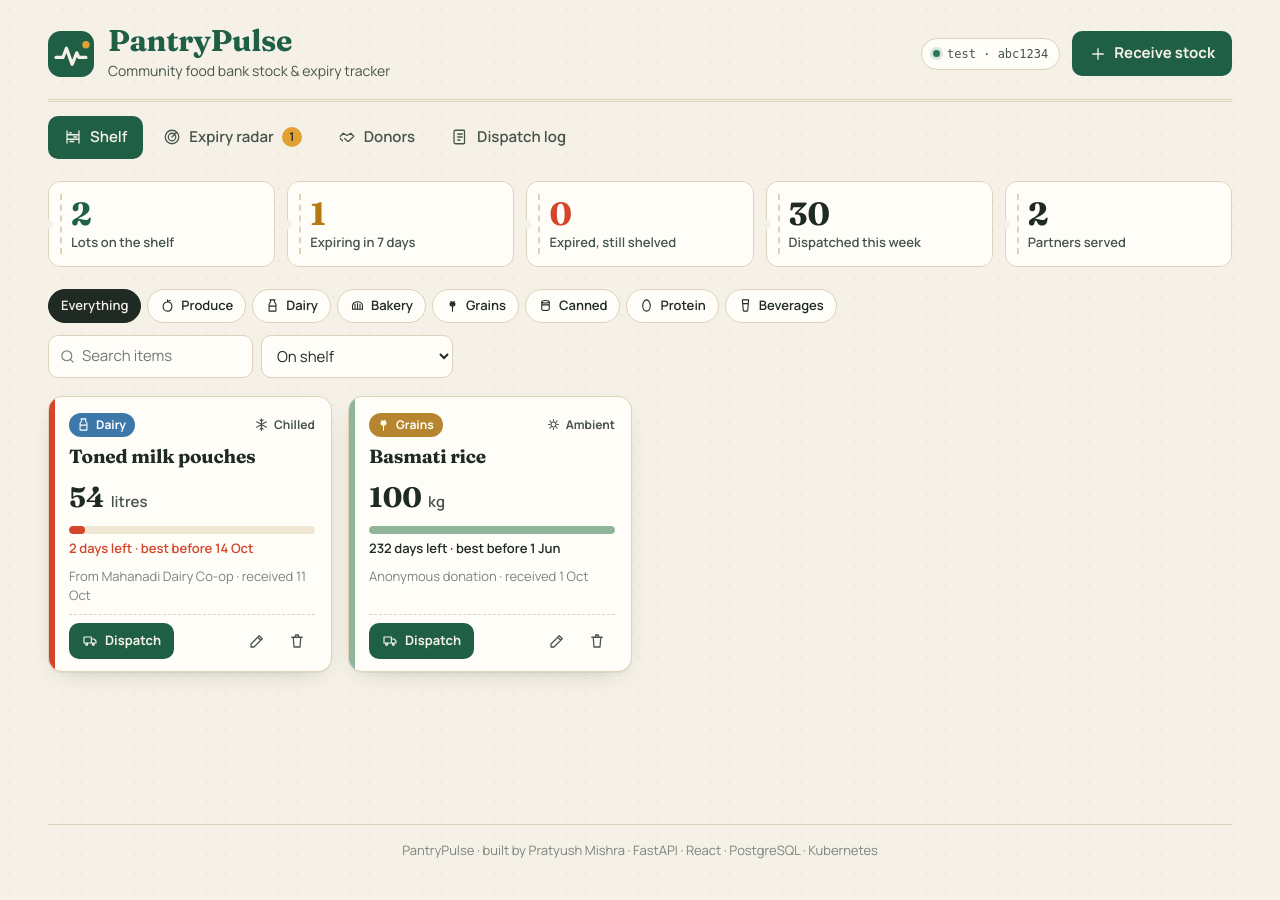
Test: App › opens the receive-stock drawer
Expected: the heading "Toned milk pouches" is shown, [69,444,256,468]
Click the button "Receive stock".
click(1152, 54)  # box [1072,31,1232,76]
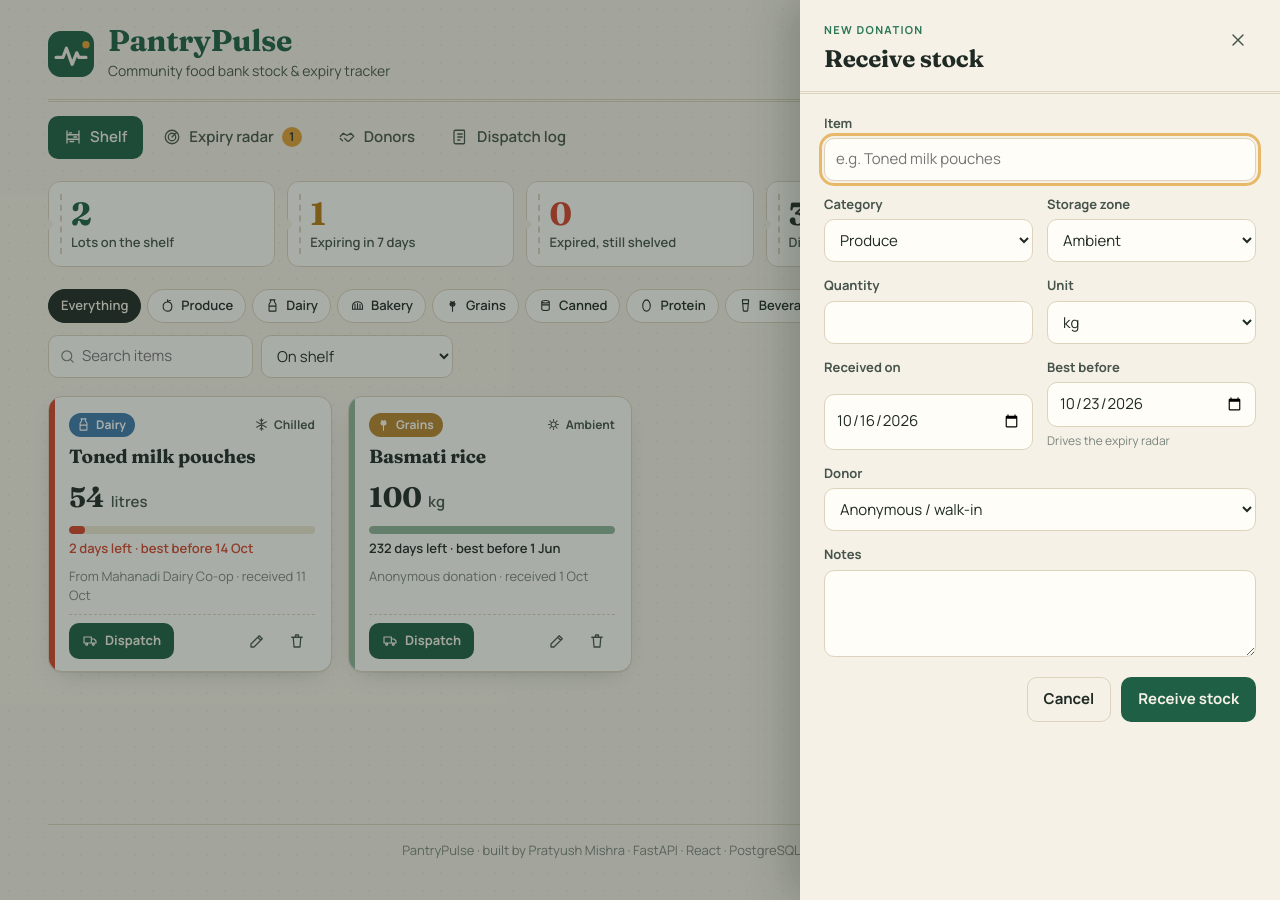
Expected: the dialog "Receive stock" is shown, [800,0,1279,899]
